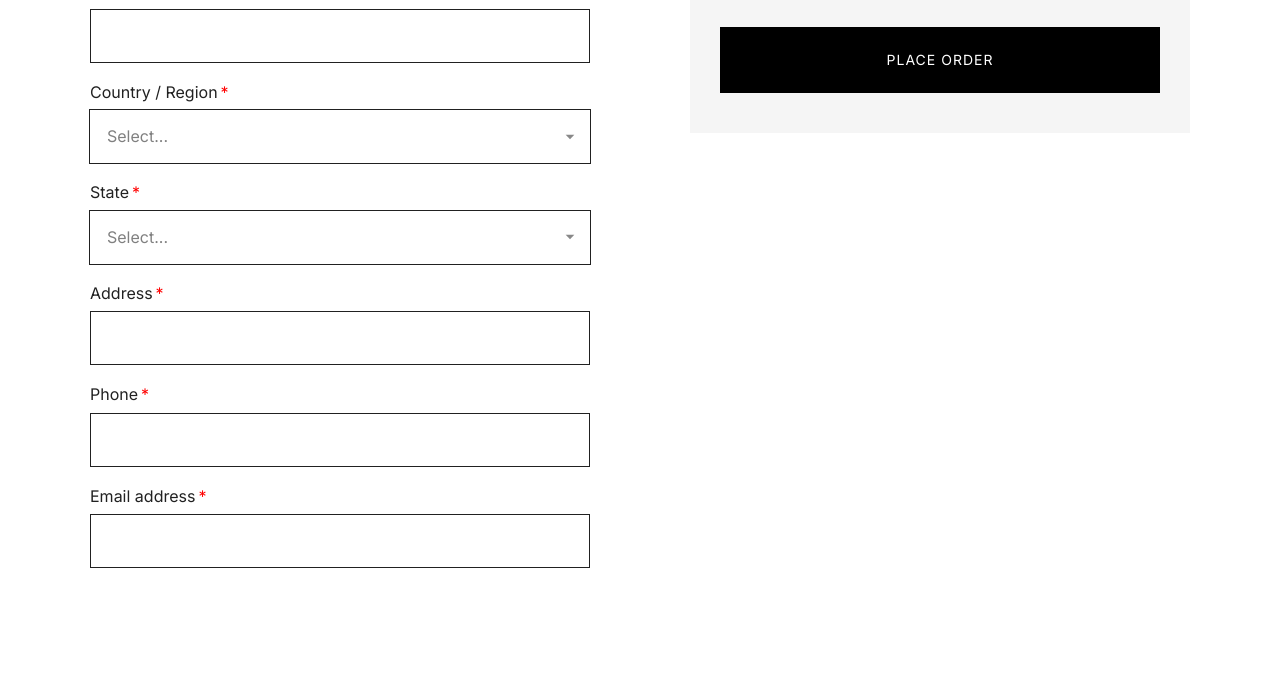
Test: Checkout › should display an error message if address is not valid
(page scrolled)
Type "an #1^" into the field named "Address *".
click(340, 338); type("an #1^")  # box [90, 311, 590, 365]
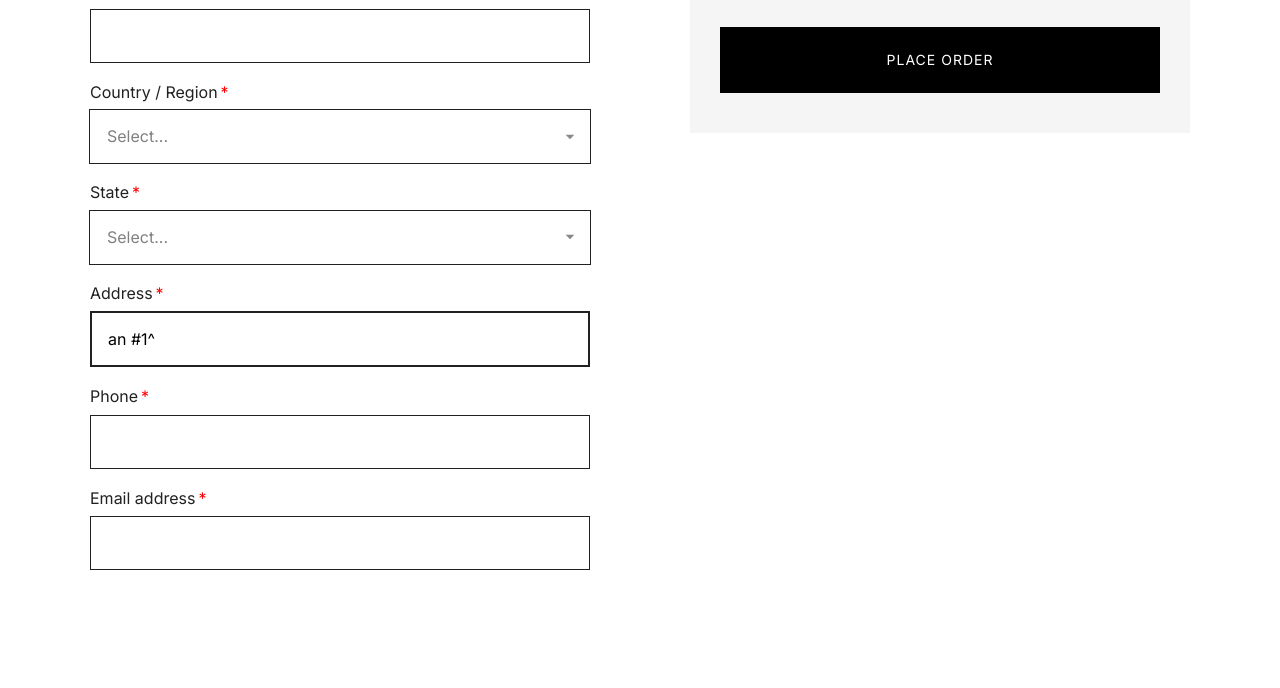
Click the button "PLACE ORDER".
click(940, 60)  # box [720, 27, 1160, 93]
(page scrolled)
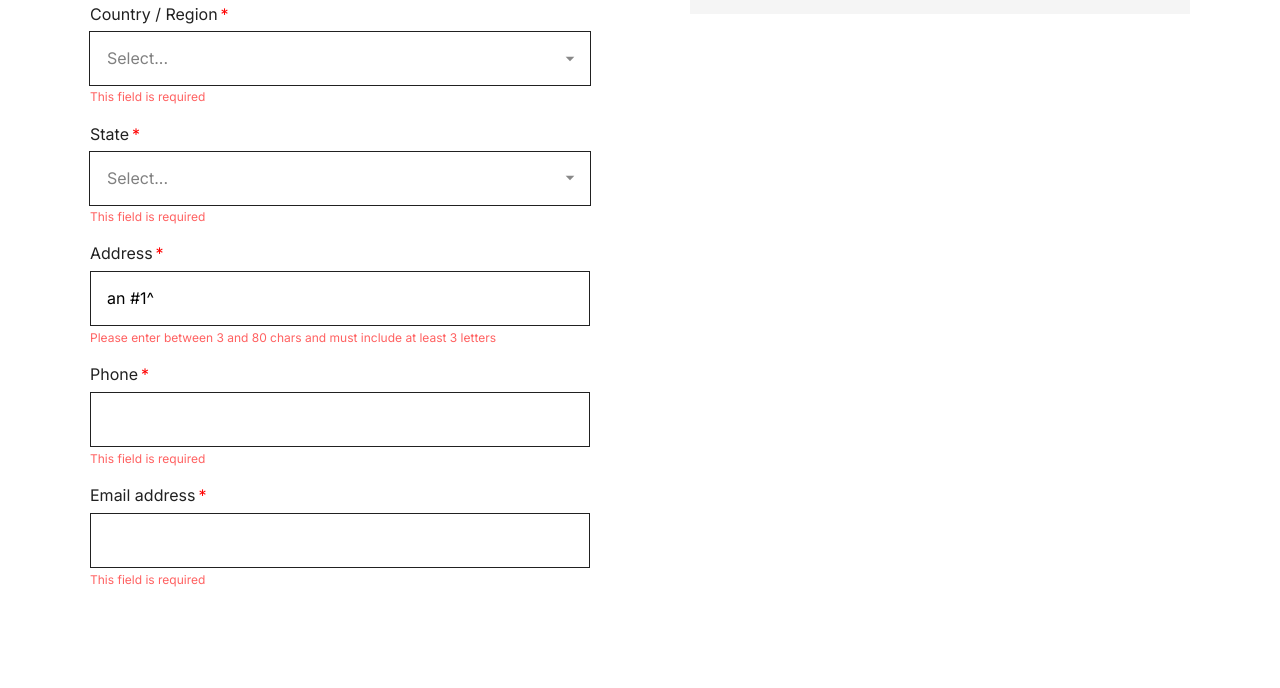
Check: the text "Please enter between 3 and 80 chars and must include at least 3 letters" is shown, box [90, 330, 496, 345]
